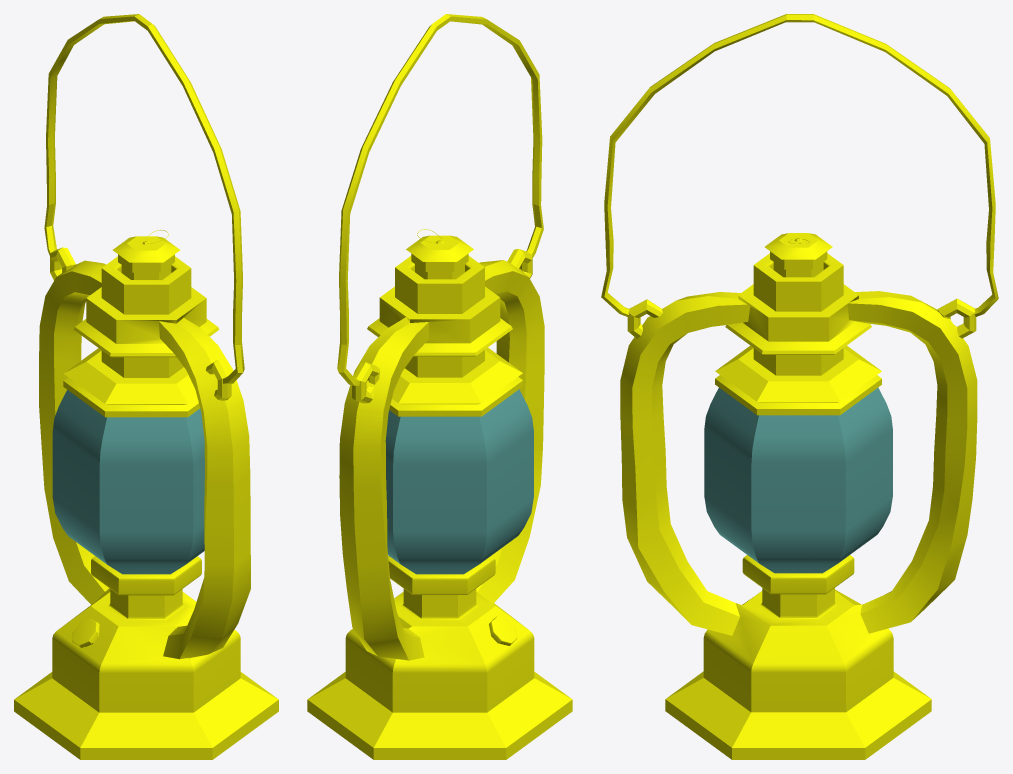
The model's file is Lamparina_INTE.fbx.
The picture shows the model from 3 angles, left to right: view 1: azimuth 30°, elevation 25°; view 2: azimuth 150°, elevation 25°; view 3: azimuth 270°, elevation 25°; orthographic projection.
Parts seen in each view (by area): view 1: Lamparina_INTE; view 2: Lamparina_INTE; view 3: Lamparina_INTE.
Boxes of the visible parts, x1,y1,x2,y2 form: Lamparina_INTE: [14, 14, 278, 759]; Lamparina_INTE: [307, 14, 572, 759]; Lamparina_INTE: [601, 14, 998, 759].
Bounding box in the file's own units: 13.86 × 46.15 × 23.89.
